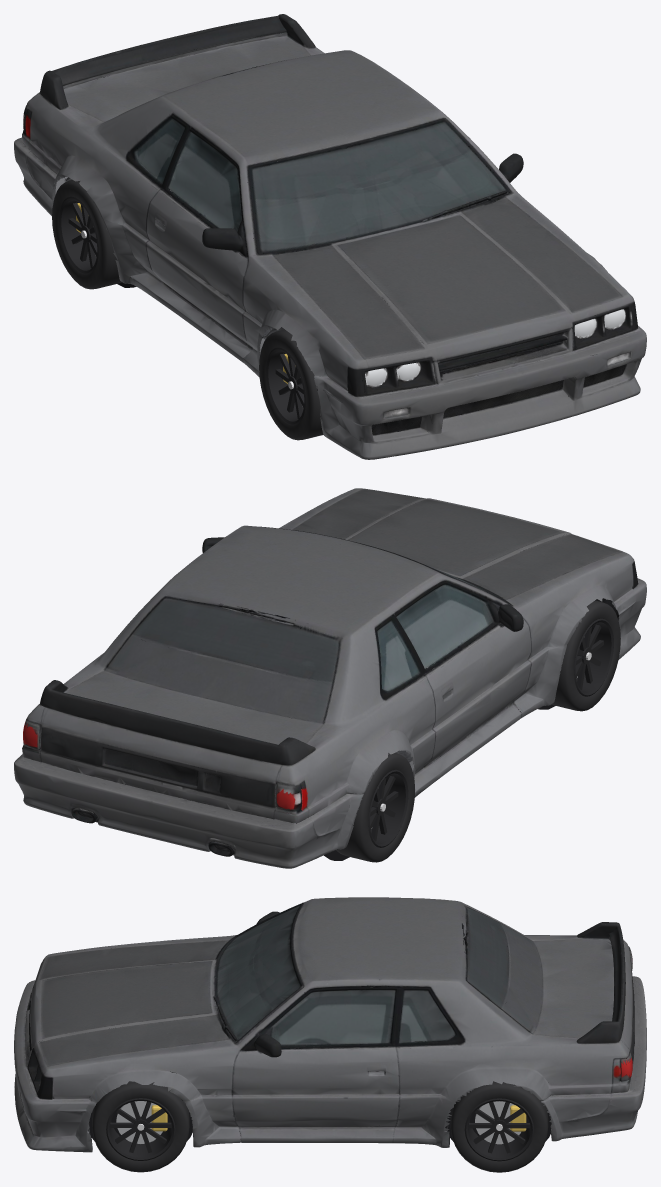
File: kaiju_r.glb
3 renders of one model, top to bottom at view 1: azimuth 30°, elevation 25°; view 2: azimuth 150°, elevation 25°; view 3: azimuth 270°, elevation 25°, orthographic. The views are drawn at different scales.
Parts seen in each view (by area): view 1: KaijuBody, WheelRLTyre, WheelFLTyre, WheelRLRims, WheelFLRims; view 2: KaijuBody, WheelRLTyre, WheelFLTyre, WheelRLRims, WheelFLRims; view 3: KaijuBody, WheelFRTyre, WheelRRTyre, WheelFRRims, WheelRRRims.
Part boxes in pixels (box(x1,y1,x2,y2)): KaijuBody: box(14, 14, 646, 459); WheelRLTyre: box(52, 180, 122, 289); WheelFLTyre: box(259, 329, 323, 440); WheelRLRims: box(58, 196, 98, 274); WheelFLRims: box(265, 347, 305, 425); KaijuBody: box(14, 488, 646, 868); WheelRLTyre: box(336, 753, 414, 862); WheelFLTyre: box(551, 600, 620, 711); WheelRLRims: box(368, 769, 408, 847); WheelFLRims: box(574, 618, 613, 696); KaijuBody: box(14, 897, 646, 1152); WheelFRTyre: box(92, 1081, 189, 1172); WheelRRTyre: box(450, 1081, 548, 1172); WheelFRRims: box(106, 1098, 175, 1160); WheelRRRims: box(464, 1098, 534, 1161).
Bounding box in the file's own units: 2.4 × 1.48 × 4.74.
Materials: 11 (3 with a texture image).
